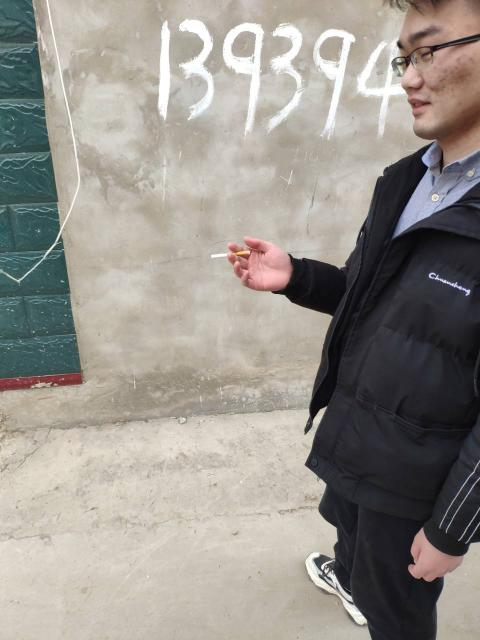Cigarette: (198, 242, 262, 270)
